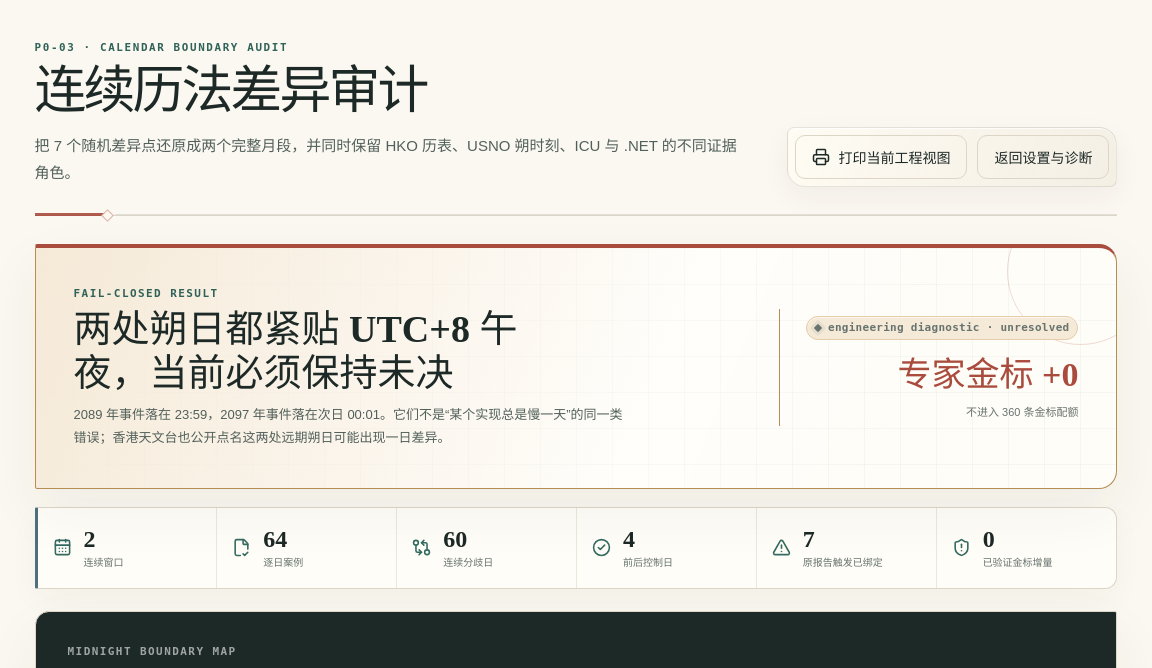
Test case: CalendarDivergenceAuditPage › 只通过平台端口打印，并在适配器拒绝时显示可重试错误
Click the button "打印当前工程视图" at (882, 156), box x1=796 y1=134 x2=968 y2=178
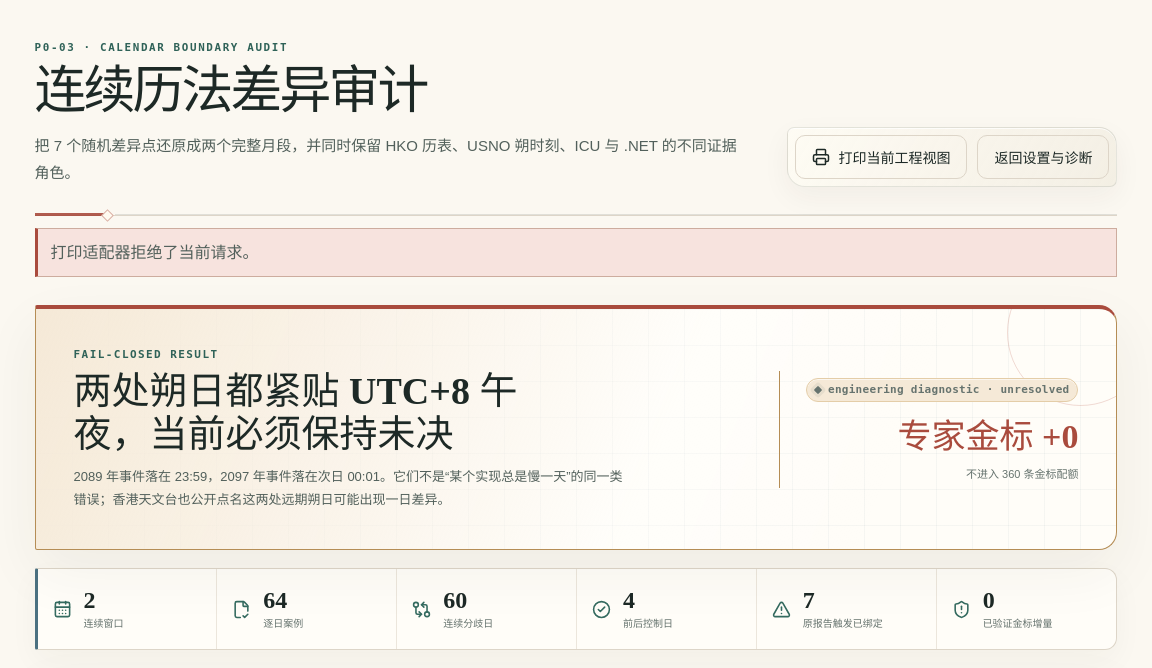
Result: the text "打印适配器拒绝了当前请求。" is shown at x1=34 y1=228 x2=1117 y2=277
Click the button "打印当前工程视图" at (882, 156), box x1=796 y1=134 x2=968 y2=178
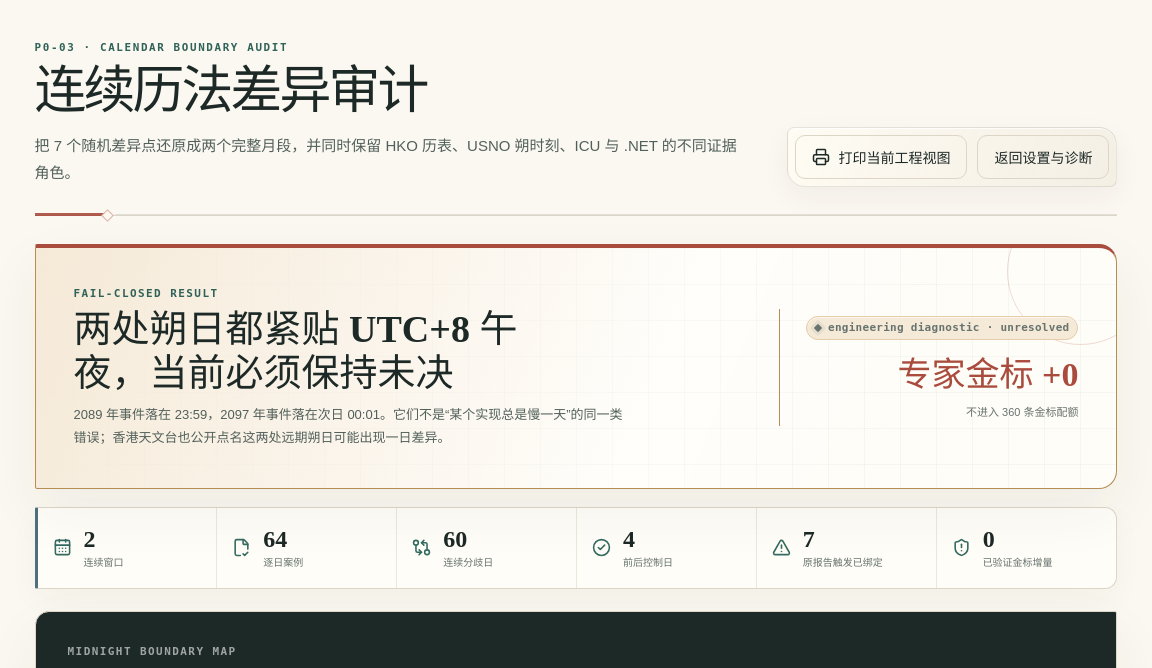
Result: the text "打印适配器拒绝了当前请求。" is gone
